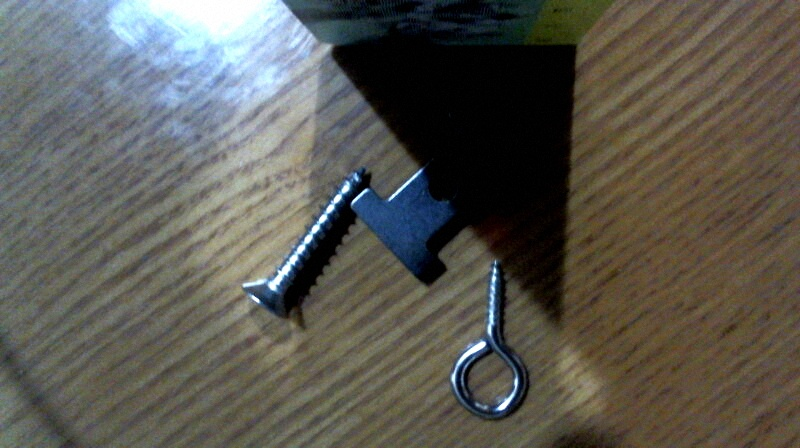O001: (445, 256, 534, 424)
O002: (348, 92, 542, 283)
S001: (236, 162, 371, 325)
